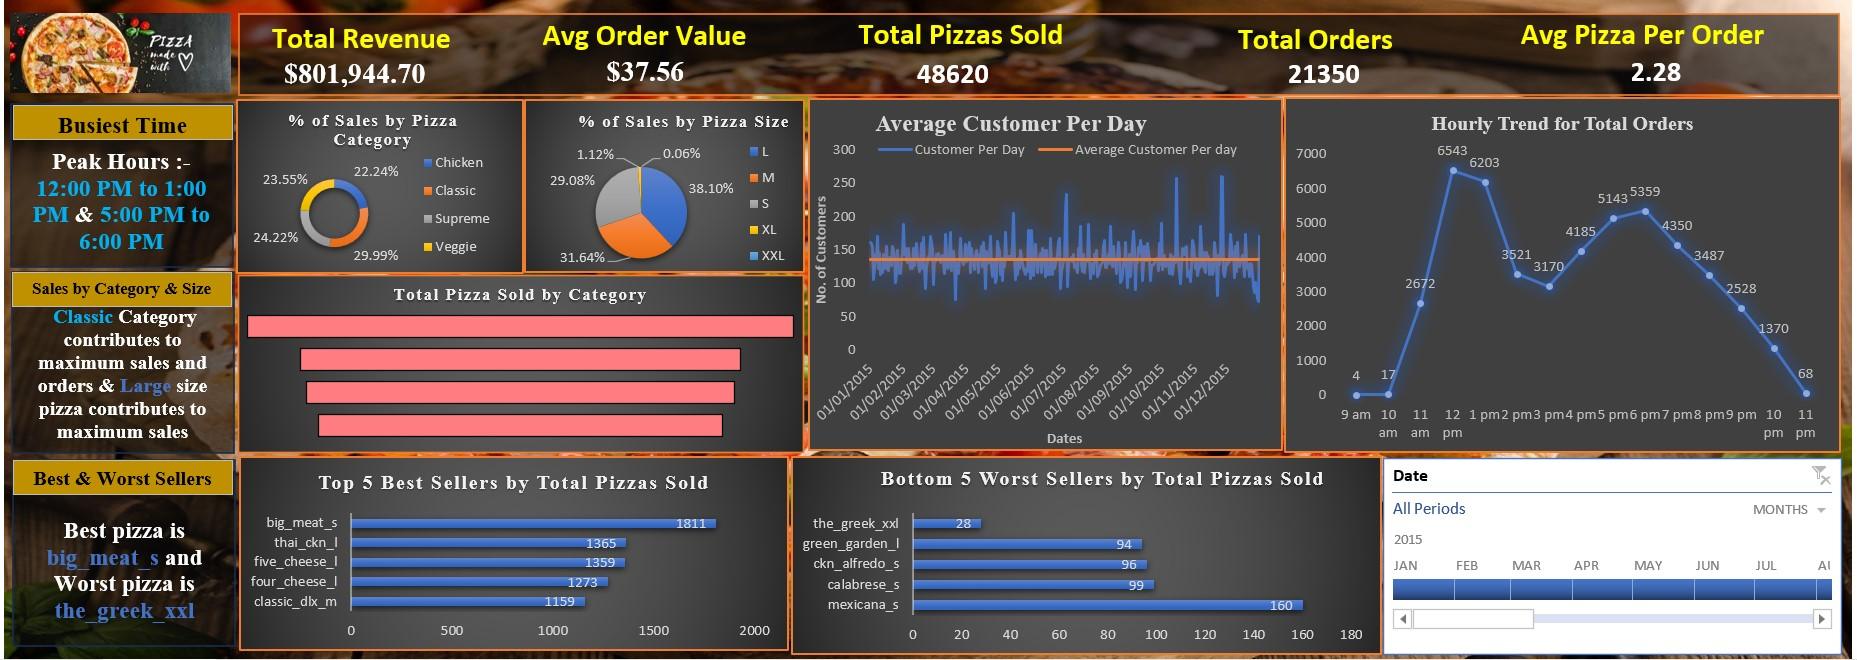

The dashboard page shown, as its layout file describes it:
{"tool":"tableau","page":{"name":"Home","canvas":[1000,1000],"units":"permille","ordinal":1},"visuals":[{"type":"image","param":"C:/ANKIT RAJ MISHRA/DATA ANALYST/Portfolio/1. Pizza Sales Place/images/Pizza Sal","box":[4.8,9.4,990.3,981.2]},{"type":"filter","title":"Hourly Trends","param":"[federated.0oiasbx03xoptt19gp2ly1xemj94].[none:date:qk]","box":[802.7,24.7,125,65.8]},{"type":"text","box":[362.5,25.6,215.6,47.8]},{"type":"image","param":"C:/ANKIT RAJ MISHRA/DATA ANALYST/Portfolio/Pizza Sales Place/images/Pizza Sales ","box":[308.8,26.7,48.1,64.4]},{"type":"filter","title":"Hourly Trends","param":"[federated.0oiasbx03xoptt19gp2ly1xemj94].[none:category:nk]","box":[658.8,28.2,123.2,61.1]},{"type":"worksheet","title":"Date Range","mark":"Automatic","box":[395.1,69.3,119.1,21.2]},{"type":"dashboard-object","box":[65.2,106.9,135.2,61.1]},{"type":"image","param":"C:/ANKIT RAJ MISHRA/DATA ANALYST/Portfolio/1. Pizza Sales Place/images/Pizza Sal","box":[693.1,106.9,43.8,59.9]},{"type":"image","param":"C:/ANKIT RAJ MISHRA/DATA ANALYST/Portfolio/1. Pizza Sales Place/images/Pizza Sal","box":[243.2,108.1,82.7,56.4]},{"type":"image","param":"C:/ANKIT RAJ MISHRA/DATA ANALYST/Portfolio/1. Pizza Sales Place/images/Pizza Sal","box":[396.9,108.1,63.4,63.5]},{"type":"image","param":"C:/ANKIT RAJ MISHRA/DATA ANALYST/Portfolio/1. Pizza Sales Place/images/Pizza Sal","box":[827.6,108.1,56.3,56.4]},{"type":"image","param":"C:/ANKIT RAJ MISHRA/DATA ANALYST/Portfolio/1. Pizza Sales Place/images/Pizza Sal","box":[555.6,108.9,47.5,56.7]},{"type":"worksheet","title":"KPI Banner","mark":"Automatic","box":[213.9,164.5,714.5,84.6]},{"type":"dashboard-object","box":[64.6,176.3,134,61.1]},{"type":"worksheet","title":"Hourly Trends","mark":"Bar","rows":["Calculation_1783706976992092163","Calculation_1783706976992092163"],"cols":["time"],"box":[210.6,263.2,350,332.6]},{"type":"legend","title":"Hourly Trends","param":"[federated.0oiasbx03xoptt19gp2ly1xemj94].[none:category:nk]","box":[410.6,264.4,158.8,54.4]},{"type":"worksheet","title":"Monthly Trends","mark":"Bar","rows":["Calculation_1783706976991760385"],"cols":["date"],"box":[572.7,264.4,358.5,329]},{"type":"text","box":[65.2,265.6,135.8,35.2]},{"type":"text","box":[64.6,299.7,135.8,296.1]},{"type":"text","box":[64,606.4,135.8,43.5]},{"type":"worksheet","title":"% of Total Sales by Pizza Size","mark":"Line","rows":["size"],"box":[456.8,606.4,243.5,364.3]},{"type":"text","box":[707.4,607.5,220.4,35.2]},{"type":"worksheet","title":"Percentage of Sales by Pizza Category","mark":"Pie","rows":["Calculation_1783706977056595974","Calculation_1783706977056612360"],"box":[210,609.9,236,363.1]},{"type":"text","box":[66.4,653.4,135.8,318.4]},{"type":"legend","title":"Total Orders & Pizza Sold by Pizza Category","param":"[federated.0oiasbx03xoptt19gp2ly1xemj94].[:Measure Names]","box":[707.4,653.4,220.4,35.2]},{"type":"worksheet","title":"Total Orders & Pizza Sold by Pizza Category","mark":"Automatic","rows":["category"],"box":[707.9,687.4,220.4,282]}]}

Visuals, with their boxes on the dashboard's canvas, which has no fixed pixel size, in thousandths of its width and height (x1, y1, x2, y2). These are canvas units, not pixel positions in the 1857x660 screenshot, which may show the page scaled, cropped or inside an application window:
image: {"left": 5, "top": 9, "right": 995, "bottom": 991}
"Hourly Trends" filter: {"left": 803, "top": 25, "right": 928, "bottom": 90}
text: {"left": 362, "top": 26, "right": 578, "bottom": 73}
image: {"left": 309, "top": 27, "right": 357, "bottom": 91}
"Hourly Trends" filter: {"left": 659, "top": 28, "right": 782, "bottom": 89}
"Date Range" worksheet: {"left": 395, "top": 69, "right": 514, "bottom": 90}
dashboard-object: {"left": 65, "top": 107, "right": 200, "bottom": 168}
image: {"left": 693, "top": 107, "right": 737, "bottom": 167}
image: {"left": 243, "top": 108, "right": 326, "bottom": 164}
image: {"left": 397, "top": 108, "right": 460, "bottom": 172}
image: {"left": 828, "top": 108, "right": 884, "bottom": 164}
image: {"left": 556, "top": 109, "right": 603, "bottom": 166}
"KPI Banner" worksheet: {"left": 214, "top": 164, "right": 928, "bottom": 249}
dashboard-object: {"left": 65, "top": 176, "right": 199, "bottom": 237}
"Hourly Trends" worksheet (Bar marks): {"left": 211, "top": 263, "right": 561, "bottom": 596}
"Hourly Trends" legend: {"left": 411, "top": 264, "right": 569, "bottom": 319}
"Monthly Trends" worksheet (Bar marks): {"left": 573, "top": 264, "right": 931, "bottom": 593}
text: {"left": 65, "top": 266, "right": 201, "bottom": 301}
text: {"left": 65, "top": 300, "right": 200, "bottom": 596}
text: {"left": 64, "top": 606, "right": 200, "bottom": 650}
"% of Total Sales by Pizza Size" worksheet (Line marks): {"left": 457, "top": 606, "right": 700, "bottom": 971}
text: {"left": 707, "top": 608, "right": 928, "bottom": 643}
"Percentage of Sales by Pizza Category" worksheet (Pie marks): {"left": 210, "top": 610, "right": 446, "bottom": 973}
text: {"left": 66, "top": 653, "right": 202, "bottom": 972}
"Total Orders & Pizza Sold by Pizza Category" legend: {"left": 707, "top": 653, "right": 928, "bottom": 689}
"Total Orders & Pizza Sold by Pizza Category" worksheet: {"left": 708, "top": 687, "right": 928, "bottom": 969}
